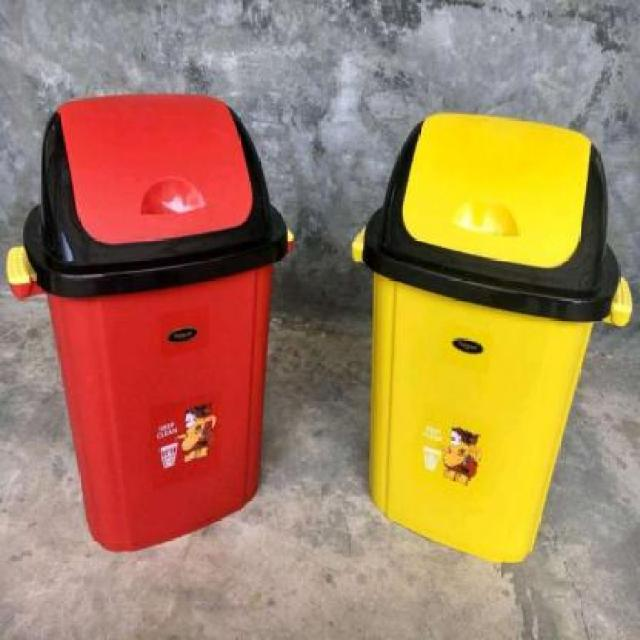garbage container: (1, 86, 310, 562), (346, 103, 640, 592)
